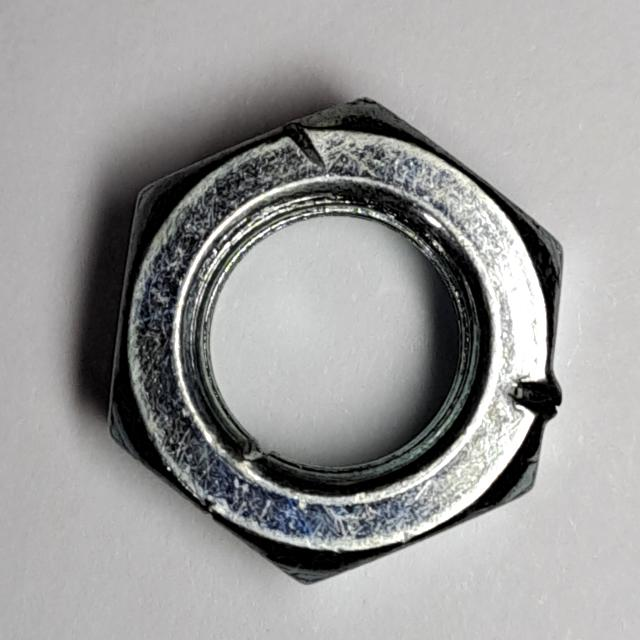Scratches: (100, 85, 578, 596)
